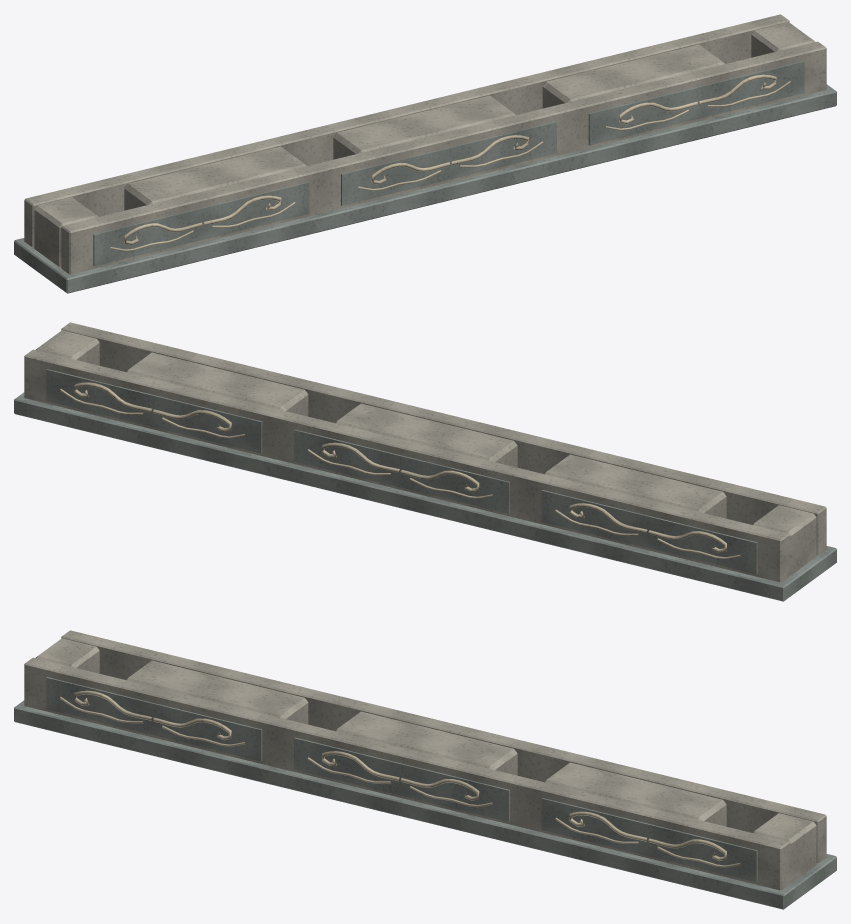
3 renders of one model, top to bottom at view 1: azimuth 30°, elevation 25°; view 2: azimuth 150°, elevation 25°; view 3: azimuth 330°, elevation 25°, orthographic.
Visible parts, largest first — view 1: D09_stone, D09_cool, D09_relief; view 2: D09_stone, D09_cool, D09_relief; view 3: D09_stone, D09_cool, D09_relief.
Part boxes in pixels (x1,y1,x2,y2): D09_stone: [24, 14, 826, 274]; D09_cool: [14, 61, 836, 293]; D09_relief: [110, 74, 790, 251]; D09_stone: [24, 322, 826, 582]; D09_cool: [14, 369, 836, 601]; D09_relief: [60, 382, 740, 559]; D09_stone: [24, 630, 826, 890]; D09_cool: [14, 677, 836, 909]; D09_relief: [60, 690, 740, 867].
Bounding box in the file's own units: 4.73 × 0.34 × 0.57.
Materials: 4 (3 with a texture image).
